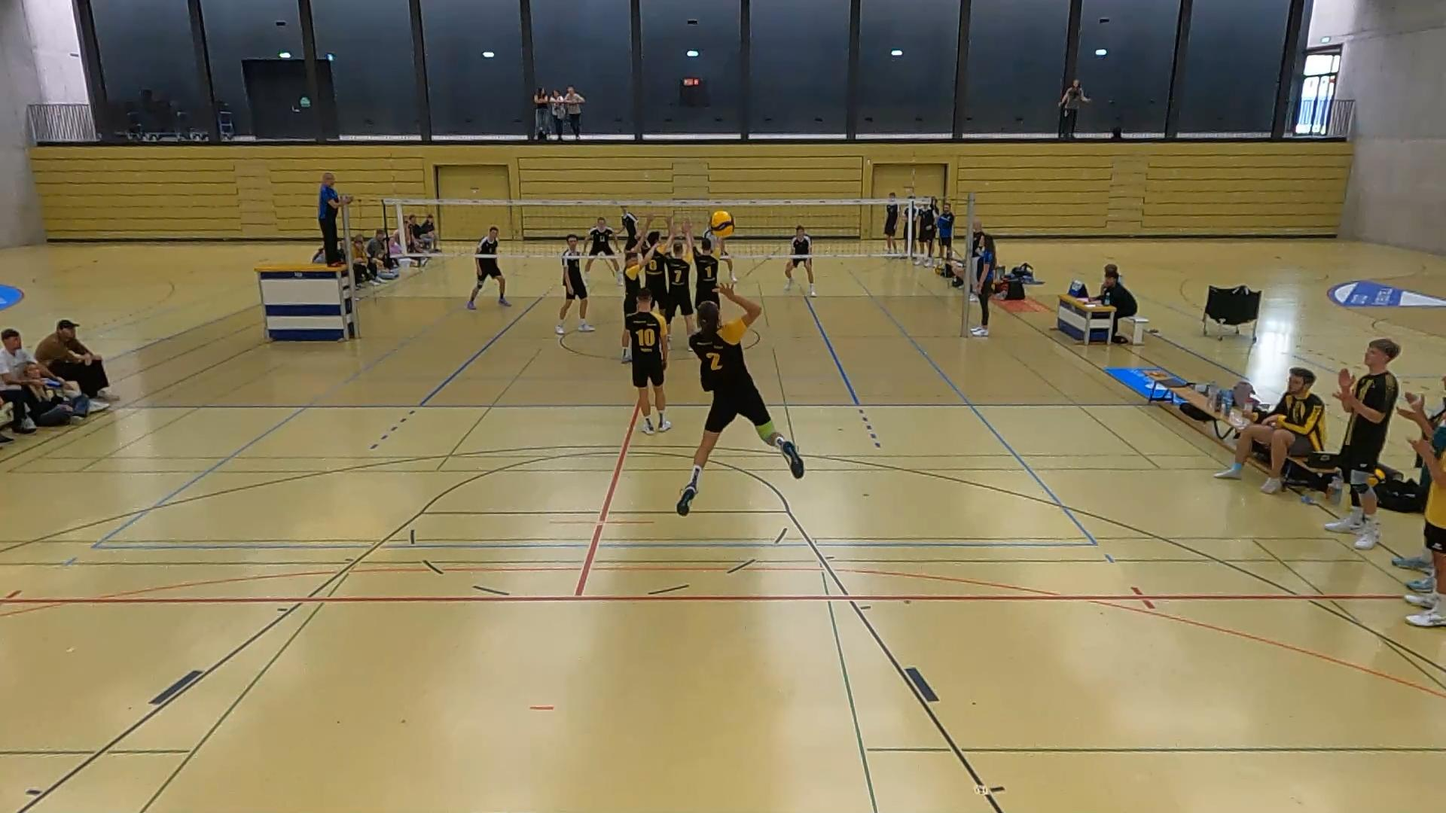Player: (625, 289, 670, 434), (621, 241, 656, 362), (556, 234, 593, 335), (466, 226, 510, 309), (664, 232, 694, 334), (642, 216, 672, 312), (685, 225, 719, 306), (584, 217, 621, 284), (621, 251, 642, 363), (784, 224, 816, 295), (621, 206, 639, 251)
Serve: (656, 277, 816, 519)
ball: (707, 208, 736, 241)
